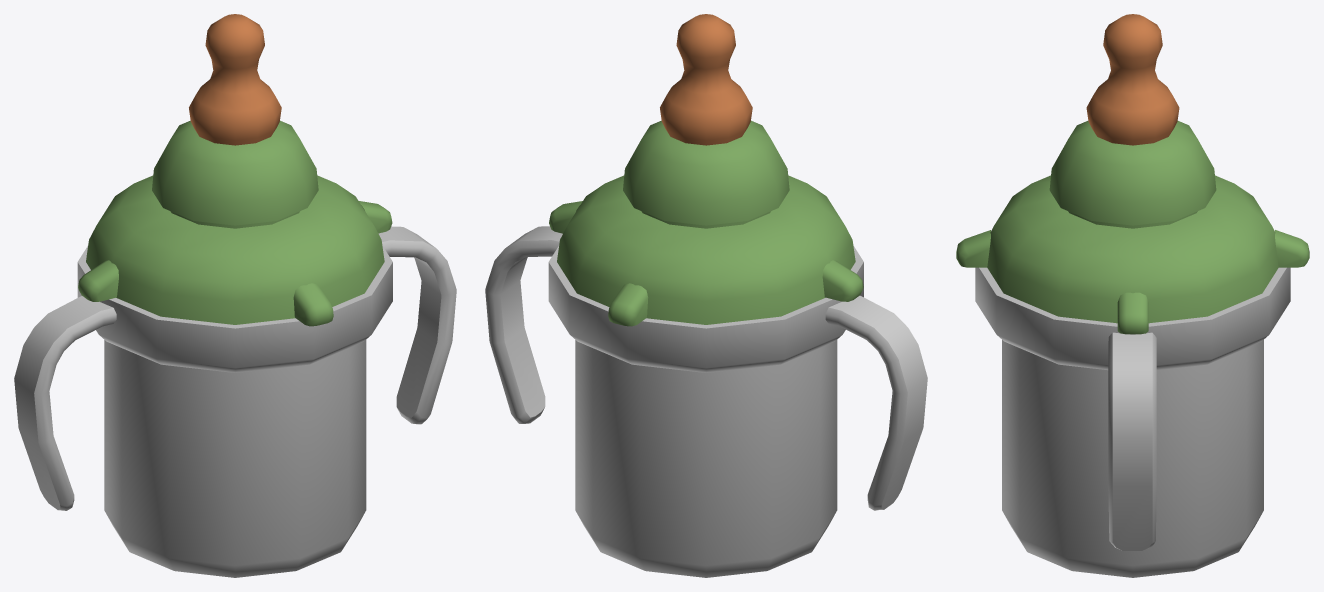
The model's file is BabyMug_01.fbx.
3 renders of one model, left to right at view 1: azimuth 30°, elevation 25°; view 2: azimuth 150°, elevation 25°; view 3: azimuth 270°, elevation 25°, orthographic.
Visible parts, largest first — view 1: BabyMug_01; view 2: BabyMug_01; view 3: BabyMug_01.
Boxes of the visible parts, <box> form: BabyMug_01: <box>14,14,456,577</box>; BabyMug_01: <box>485,14,927,577</box>; BabyMug_01: <box>956,14,1309,577</box>.
Bounding box in the file's own units: 0.1458 × 0.1701 × 0.1056.
